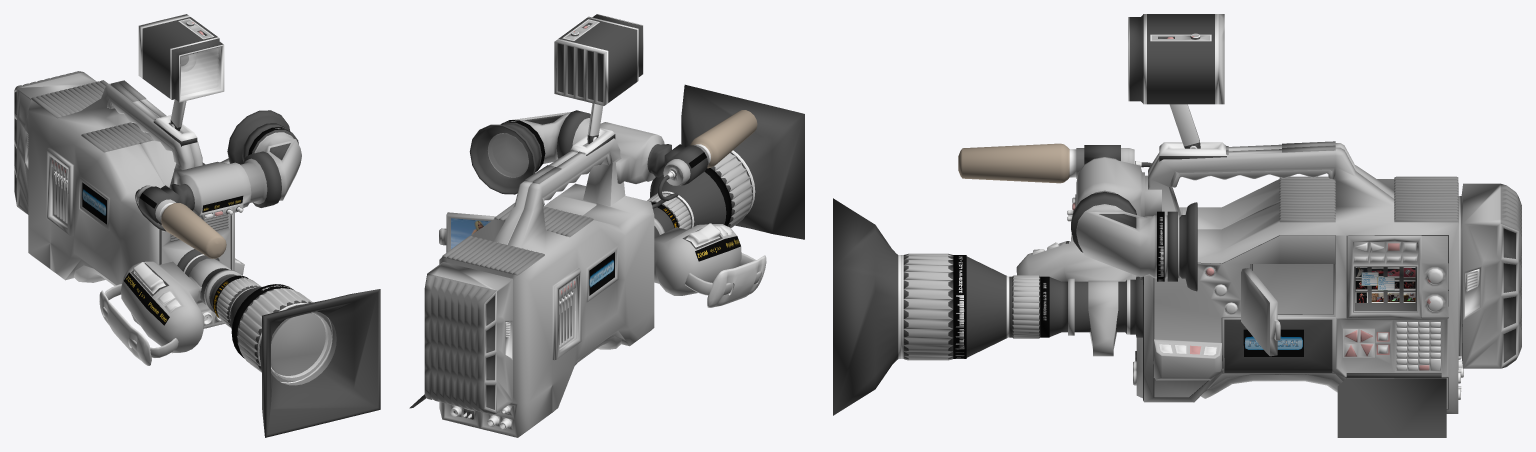
Rendered from camera.fbx.
3 views of the same model, side by side, from view 1: azimuth 30°, elevation 25°; view 2: azimuth 150°, elevation 25°; view 3: azimuth 270°, elevation 25° (orthographic). The views are drawn at different scales.
Visible parts, largest first — view 1: body.001, optics_1.001, control.001, light.001, optics_ring1.001, finder_arm.001, finder_body.001, cam_lens.001, mike.001, finder_eyep.001, optics_2.001, optics_ring2.001 (+1 smaller); view 2: body.001, optics_1.001, light.001, control.001, finder_arm.001, mike.001, finder_eyep.001, finder_body.001, optics_ring1.001, monitor.001, optics_ring2.001, light_base.001 (+1 smaller); view 3: body.001, optics_1.001, light.001, finder_arm.001, optics_ring1.001, cover.001, mike.001, control.001, optics_2.001, finder_body.001, optics_ring2.001, monitor.001 (+2 smaller).
Part boxes in pixels (<box>): body.001: <box>14,71,244,328</box>; optics_1.001: <box>229,287,380,437</box>; control.001: <box>99,258,230,365</box>; light.001: <box>138,14,224,130</box>; optics_ring1.001: <box>231,284,331,382</box>; finder_arm.001: <box>240,123,301,207</box>; finder_body.001: <box>171,161,251,219</box>; cam_lens.001: <box>271,313,332,380</box>; mike.001: <box>135,185,226,258</box>; finder_eyep.001: <box>227,110,289,164</box>; optics_2.001: <box>177,249,241,312</box>; optics_ring2.001: <box>213,275,261,327</box>; body.001: <box>424,138,654,437</box>; optics_1.001: <box>650,84,804,239</box>; light.001: <box>554,14,643,143</box>; control.001: <box>654,223,766,307</box>; finder_arm.001: <box>492,110,590,173</box>; mike.001: <box>652,110,757,208</box>; finder_eyep.001: <box>469,124,536,194</box>; finder_body.001: <box>600,122,671,183</box>; optics_ring1.001: <box>650,151,754,227</box>; monitor.001: <box>439,212,495,252</box>; optics_ring2.001: <box>647,193,692,229</box>; light_base.001: <box>570,128,615,155</box>; body.001: <box>1133,141,1521,413</box>; optics_1.001: <box>833,198,1009,415</box>; light.001: <box>1128,14,1224,148</box>; finder_arm.001: <box>1071,190,1179,281</box>; optics_ring1.001: <box>901,253,966,360</box>; cover.001: <box>1337,373,1446,437</box>; mike.001: <box>958,143,1151,183</box>; control.001: <box>1016,233,1138,356</box>; optics_2.001: <box>1049,276,1142,337</box>; finder_body.001: <box>1067,157,1161,221</box>; optics_ring2.001: <box>1009,275,1049,338</box>; monitor.001: <box>1241,267,1280,356</box>.
Size of the model in its own units: 12.44 by 16.38 by 27.57.
Materials: 10 (1 with a texture image).
